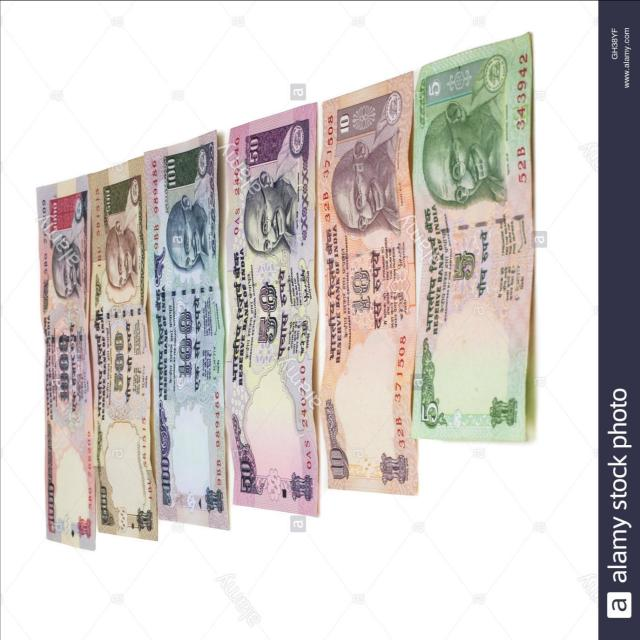5IndianRupees: (411, 34, 534, 441)
